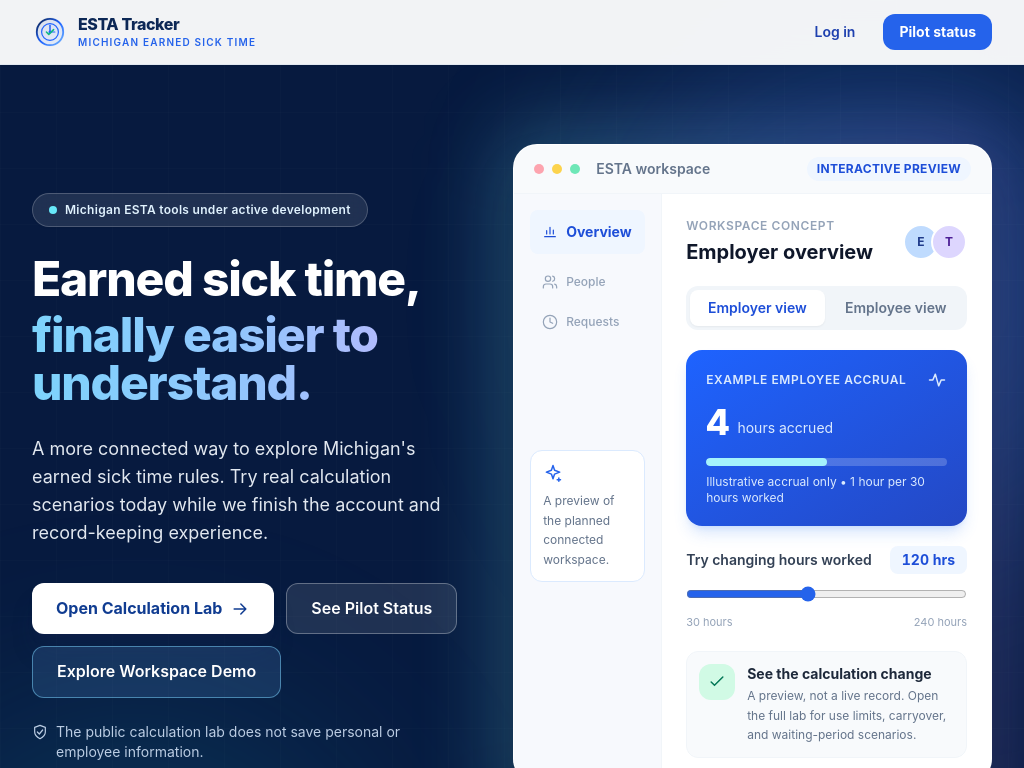
Scenario: Landing Page › recalculates the illustrative accrued hours when the slider changes
Set the slider labelled "Try changing hours worked 120 hrs" to "210" at (921, 594), box [686,586,967,602]
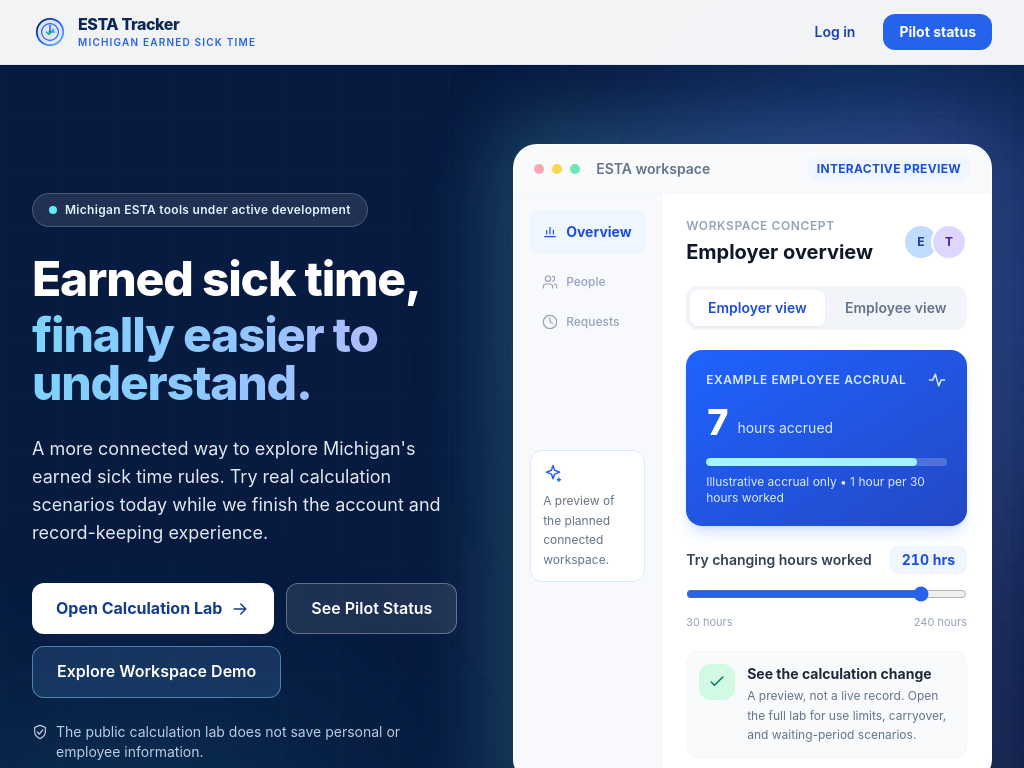
Expected: the text "210 hrs" is shown, [890,546,967,574]
Expected: the text "7" is shown, [706,402,730,442]
